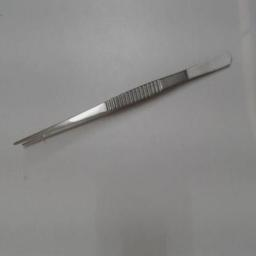DeBakey Dissector: (6, 40, 242, 180)
